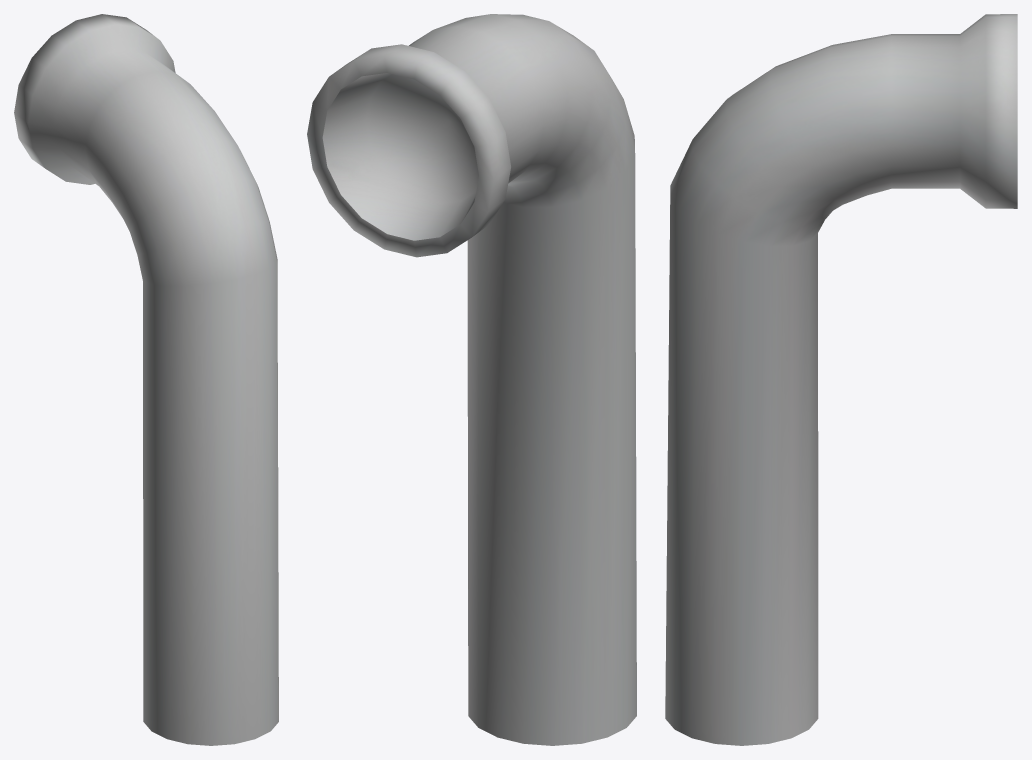
Rendered from water_spawn.FBX.
3 views of the same model, side by side, from view 1: azimuth 30°, elevation 25°; view 2: azimuth 150°, elevation 25°; view 3: azimuth 270°, elevation 25° (orthographic). The views are drawn at different scales.
Visible parts, largest first — view 1: Cylinder001; view 2: Cylinder001; view 3: Cylinder001.
Part boxes in pixels (bbox=[...]): Cylinder001: bbox=[14, 14, 278, 745]; Cylinder001: bbox=[307, 14, 636, 745]; Cylinder001: bbox=[665, 14, 1017, 745].
Size of the model in its own units: 25.2 by 97.93 by 45.37.
1 material, 1 textured.
